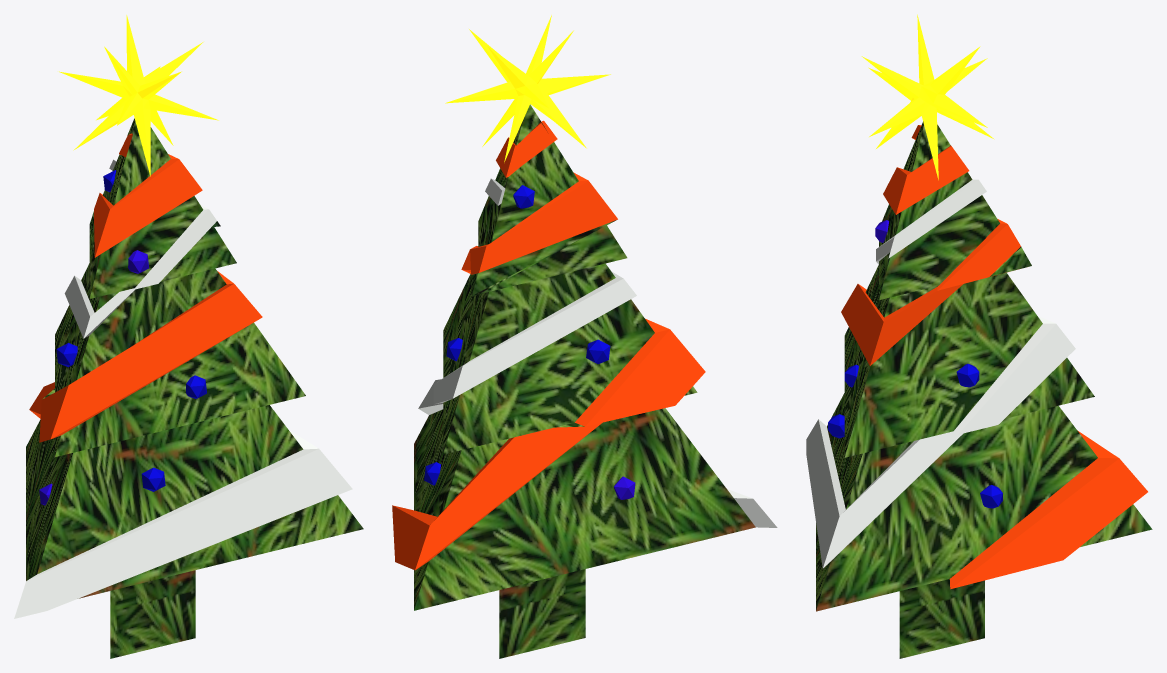
File: christmastreeFBX.fbx
3 views of the same model, side by side, from view 1: azimuth 30°, elevation 25°; view 2: azimuth 150°, elevation 25°; view 3: azimuth 270°, elevation 25° (orthographic).
Parts seen in each view (by area): view 1: Tree, Star; view 2: Tree, Star; view 3: Tree, Star.
Part boxes in pixels (left/top/right/bottom): Tree: left=14, top=118, right=363, bottom=658; Star: left=59, top=15, right=218, bottom=176; Tree: left=392, top=104, right=777, bottom=658; Star: left=445, top=15, right=610, bottom=162; Tree: left=806, top=121, right=1152, bottom=658; Star: left=861, top=14, right=994, bottom=180.
Bounding box in the file's own units: 478 × 405 × 781.
